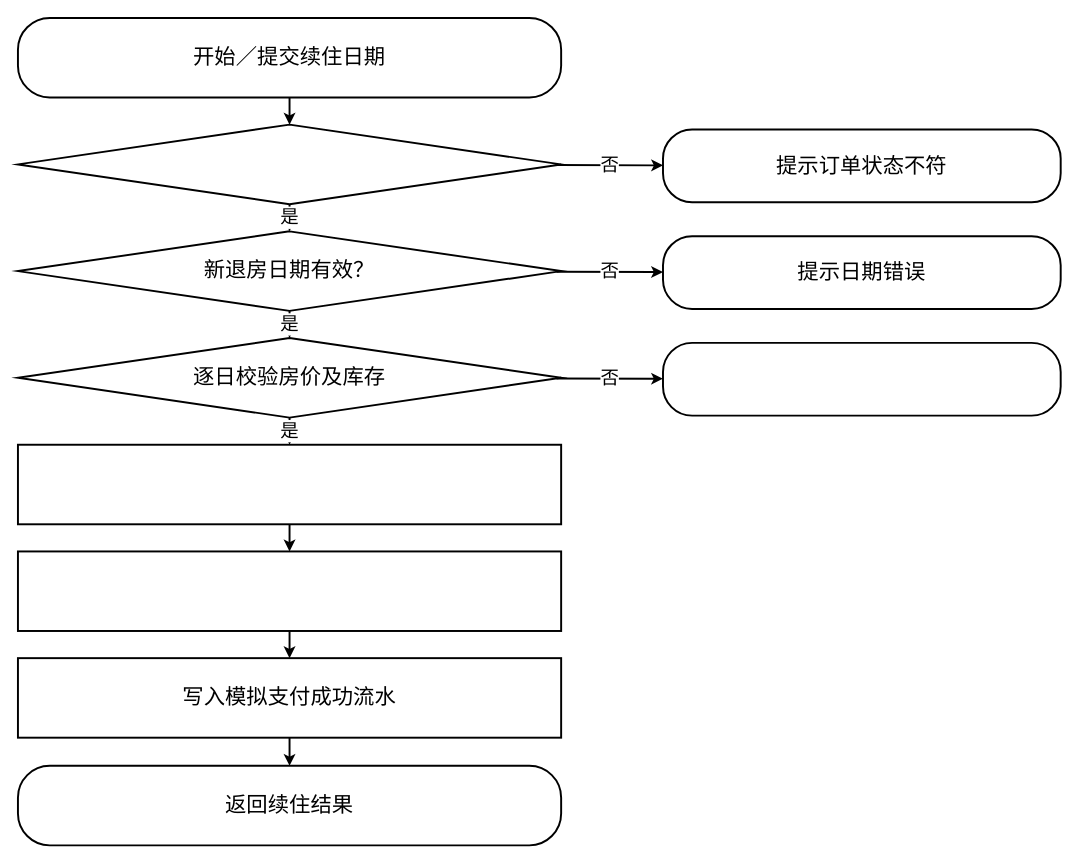
This 1078x862 diagram has some shape labels left out. The centre of each missing label's shape, as x and y in pixels:
事务更新订单、入住与库存: the point at 289,590
提示库存不足: the point at 861,378
确认追加金额和房间可用性: the point at 289,484
订单已入住且已支付？: the point at 289,164
